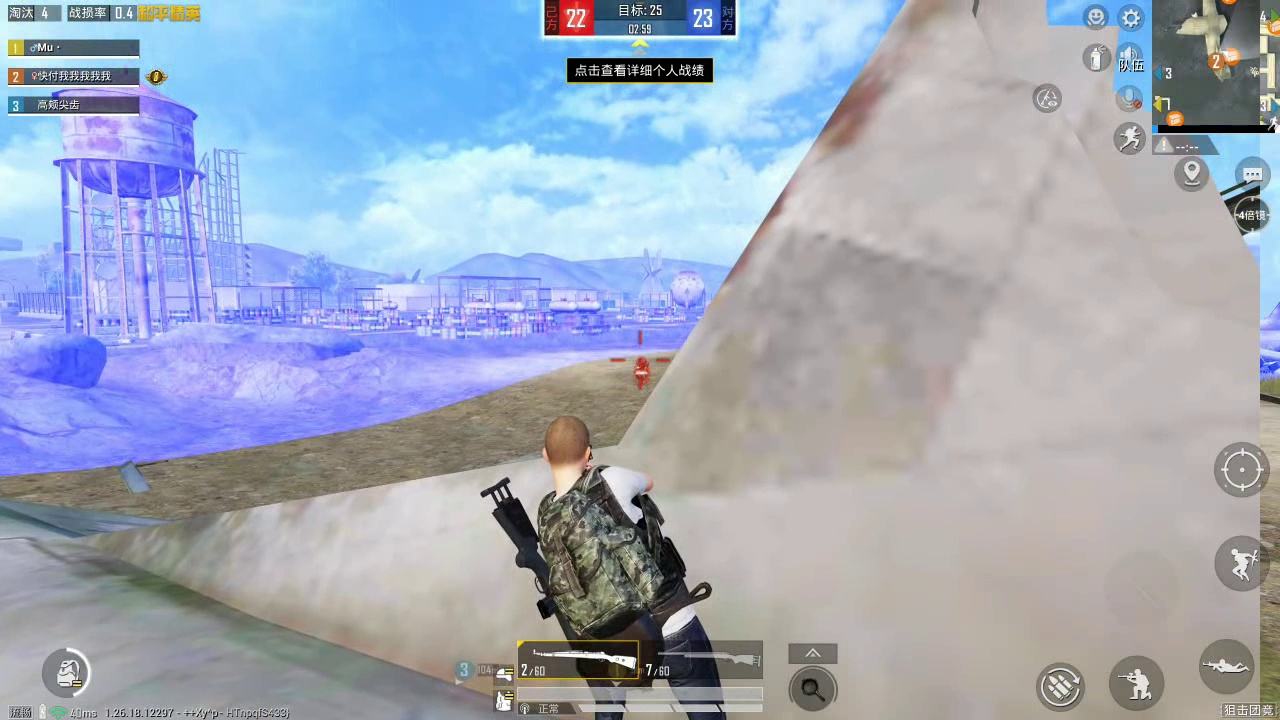enemy: (632, 352, 649, 388)
